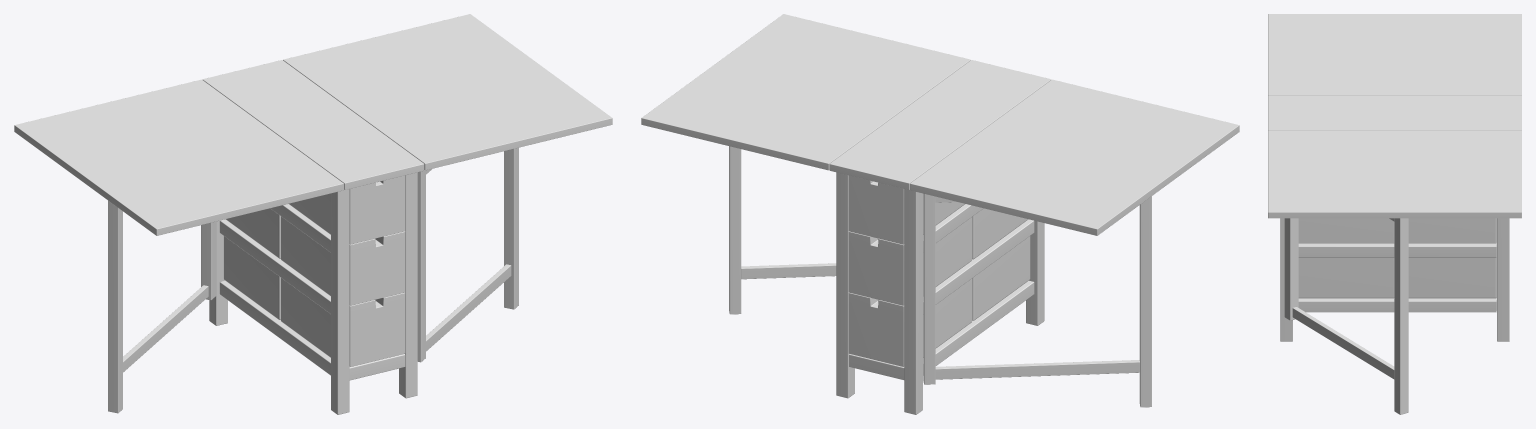
The model's file is table_52_01.001.fbx.
The picture shows the model from 3 angles, left to right: view 1: azimuth 30°, elevation 25°; view 2: azimuth 150°, elevation 25°; view 3: azimuth 270°, elevation 25°; orthographic projection. The views are drawn at different scales.
Visible parts, largest first — view 1: table_52_01.001; view 2: table_52_01.001; view 3: table_52_01.001.
Part boxes in pixels (<box>): table_52_01.001: <box>14,14,612,414</box>; table_52_01.001: <box>641,14,1239,414</box>; table_52_01.001: <box>1268,14,1521,414</box>.
Bounding box in the file's own units: 148 × 73.5 × 80.
Materials: 1 (1 with a texture image).
